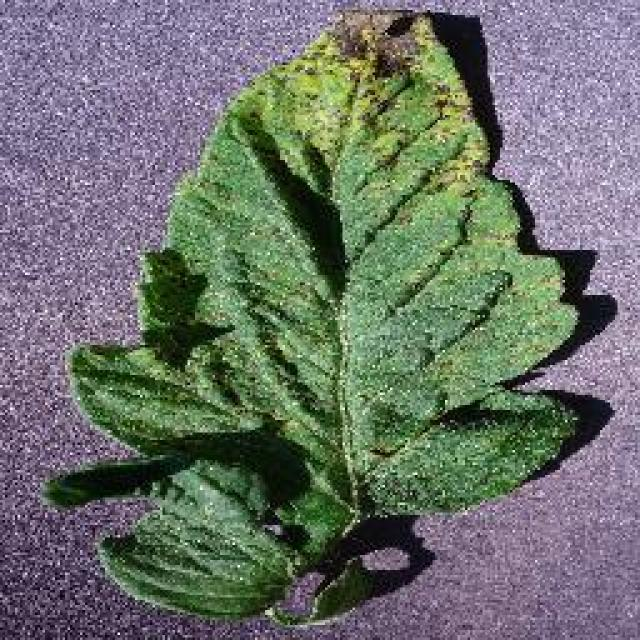Tomato target spot leaf: (69, 9, 584, 616)
